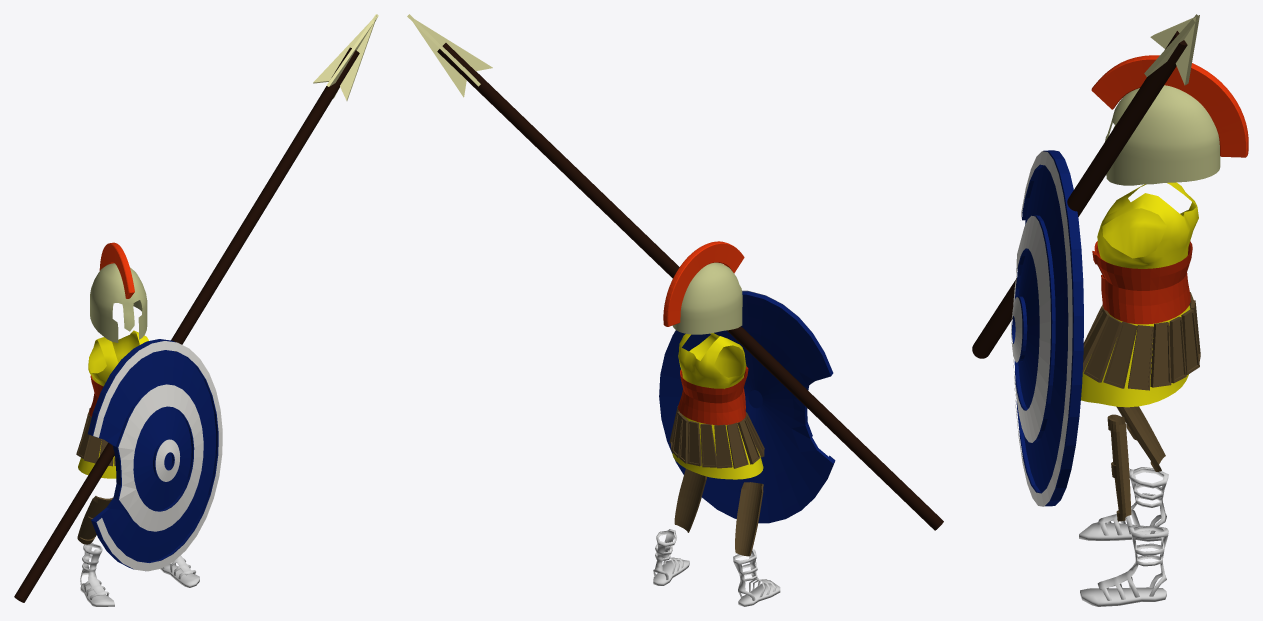
Rendered from Phalanx.dae.
3 views of the same model, side by side, from view 1: azimuth 30°, elevation 25°; view 2: azimuth 150°, elevation 25°; view 3: azimuth 270°, elevation 25° (orthographic). The views are drawn at different scales.
Parts seen in each view (by area): view 1: shield, shield_rings, spear_handle, helmet, Circle, Human_005, spear_head, helmet_top, armor_upper_leg, fender_right; view 2: shield, spear_handle, Circle, armor_upper_leg, helmet, armor_torso, Human_005, helmet_top, spear_head, fender_right, fender_left; view 3: shield, Circle, helmet, armor_upper_leg, shield_rings, Human_005, helmet_top, armor_torso, spear_handle, fender_left, spear_head, fender_right.
Part boxes in pixels (x1=…): shield: x1=87, y1=339, x2=218, y2=569; shield_rings: x1=93, y1=341, x2=222, y2=571; spear_handle: x1=14, y1=47, x2=359, y2=602; helmet: x1=90, y1=263, x2=147, y2=342; Circle: x1=78, y1=330, x2=148, y2=478; Human_005: x1=80, y1=543, x2=199, y2=606; spear_head: x1=313, y1=14, x2=378, y2=100; helmet_top: x1=99, y1=242, x2=134, y2=298; armor_upper_leg: x1=76, y1=408, x2=115, y2=466; fender_right: x1=77, y1=496, x2=113, y2=544; shield: x1=659, y1=291, x2=835, y2=523; spear_handle: x1=437, y1=43, x2=943, y2=530; Circle: x1=672, y1=333, x2=763, y2=479; armor_upper_leg: x1=669, y1=406, x2=764, y2=468; helmet: x1=672, y1=262, x2=742, y2=334; armor_torso: x1=678, y1=366, x2=748, y2=425; Human_005: x1=653, y1=529, x2=780, y2=606; helmet_top: x1=663, y1=241, x2=744, y2=326; spear_head: x1=407, y1=14, x2=492, y2=97; fender_right: x1=735, y1=482, x2=763, y2=556; fender_left: x1=674, y1=469, x2=706, y2=532; shield: x1=1012, y1=150, x2=1083, y2=506; Circle: x1=1081, y1=182, x2=1198, y2=407; helmet: x1=1105, y1=85, x2=1220, y2=185; armor_upper_leg: x1=1082, y1=292, x2=1200, y2=390; shield_rings: x1=1011, y1=151, x2=1072, y2=506; Human_005: x1=1079, y1=467, x2=1168, y2=606; helmet_top: x1=1091, y1=55, x2=1248, y2=157; armor_torso: x1=1092, y1=241, x2=1192, y2=324; spear_handle: x1=972, y1=31, x2=1187, y2=358; fender_left: x1=1107, y1=414, x2=1131, y2=521; spear_head: x1=1144, y1=14, x2=1199, y2=85; fender_right: x1=1116, y1=406, x2=1165, y2=471.
Size of the model in its own units: 2.8 by 1.01 by 3.03.
